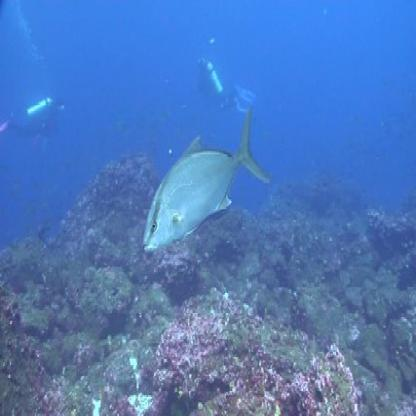jack: (137, 93, 274, 256)
